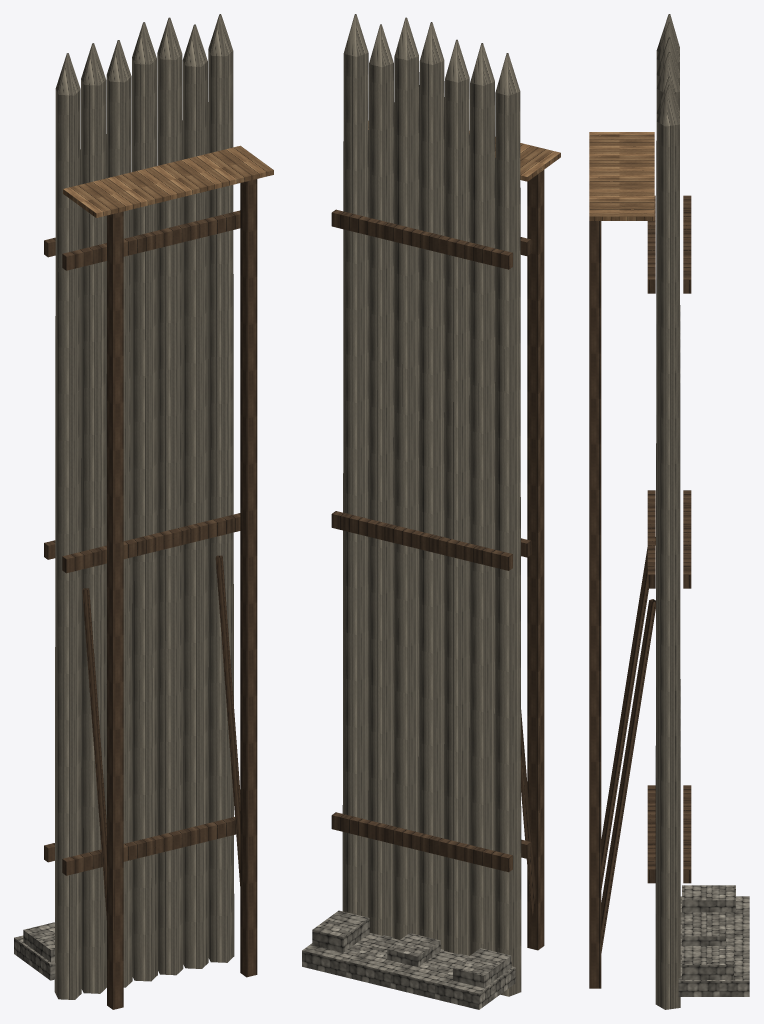
File: Rampart_Wood_1_LOD1.gltf
3 renders of one model, left to right at view 1: azimuth 30°, elevation 25°; view 2: azimuth 150°, elevation 25°; view 3: azimuth 270°, elevation 25°, orthographic. The views are drawn at different scales.
Parts seen in each view (by area): view 1: Rampart_Wood_1_LOD1; view 2: Rampart_Wood_1_LOD1; view 3: Rampart_Wood_1_LOD1.
Boxes of the visible parts, x1,y1,x2,y2 form: Rampart_Wood_1_LOD1: [14, 14, 273, 1009]; Rampart_Wood_1_LOD1: [302, 14, 560, 1009]; Rampart_Wood_1_LOD1: [589, 14, 749, 1009].
Size of the model in its own units: 4 by 20.49 by 3.2.
4 materials, 4 textured.
